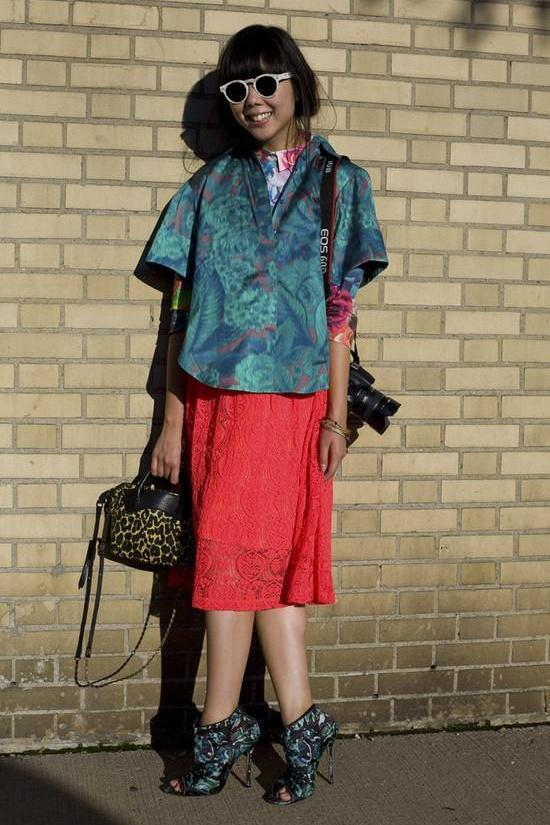shirt: (142, 136, 384, 395)
skirt: (179, 369, 334, 613)
